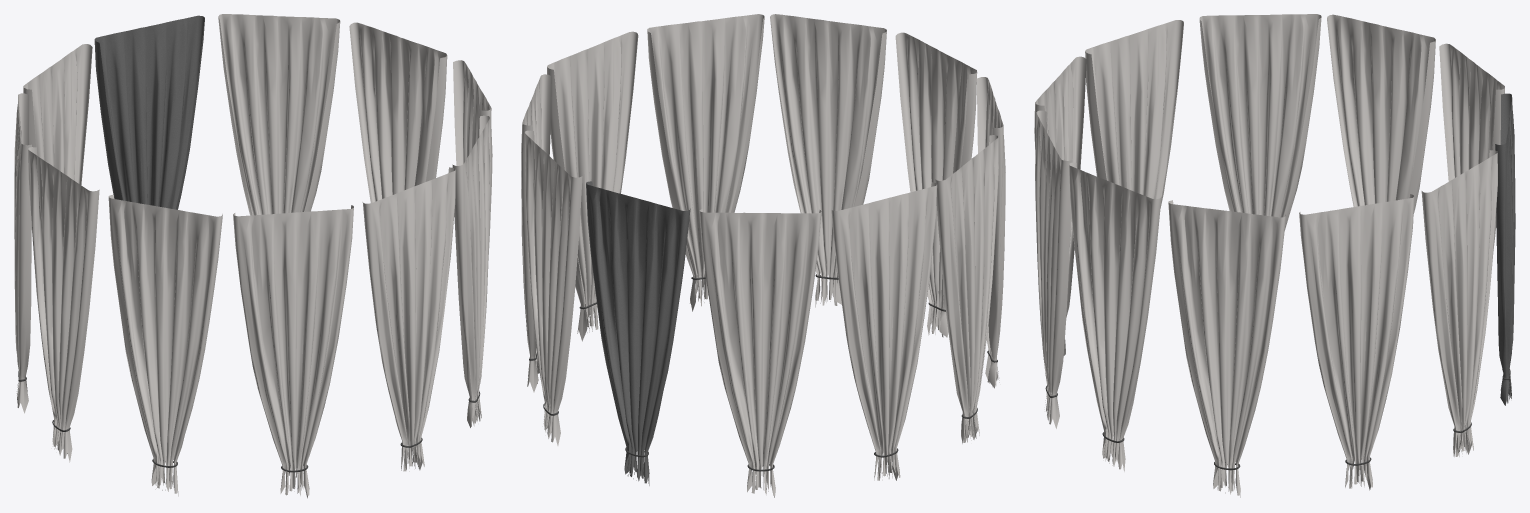
Rendered from gpdl2.gltf.
The picture shows the model from 3 angles, left to right: view 1: azimuth 30°, elevation 25°; view 2: azimuth 150°, elevation 25°; view 3: azimuth 270°, elevation 25°; orthographic projection.
Visible parts, largest first — view 1: gpd1.029; view 2: gpd1.029; view 3: gpd1.029.
Part boxes in pixels (x1,y1,x2,y2): gpd1.029: (14,14,492,498); gpd1.029: (521,14,1005,497); gpd1.029: (1034,14,1515,497).
Bounding box in the file's own units: 6.98 × 4.58 × 6.92.
22 materials, 1 textured.
